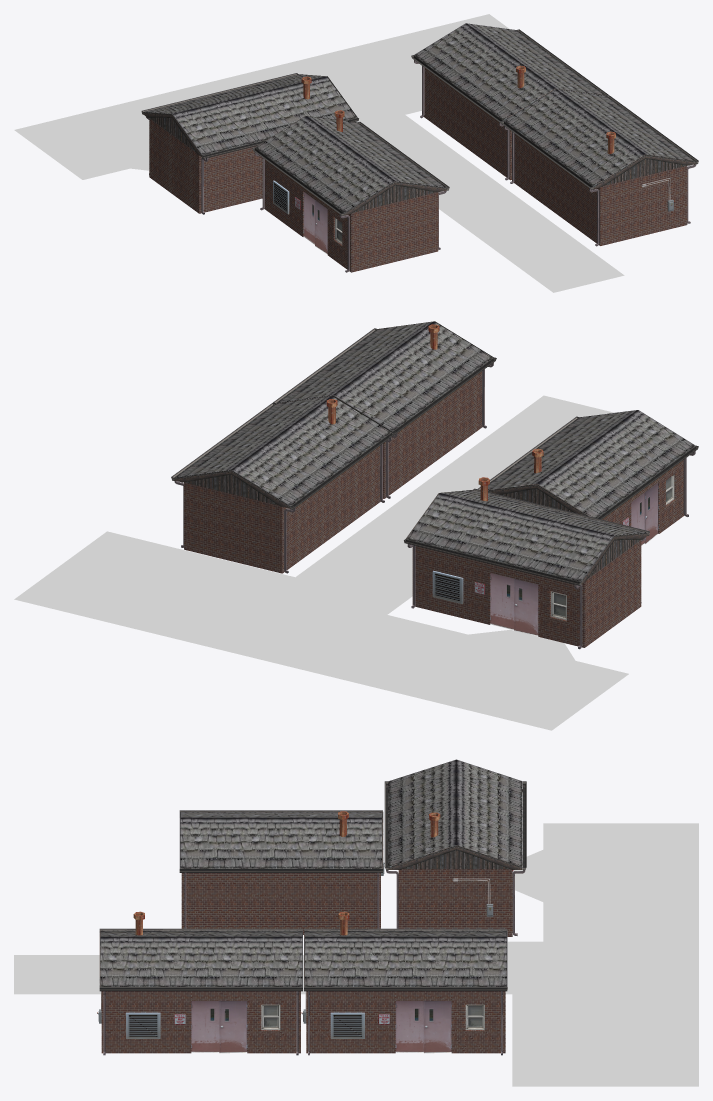
File: town.gltf
3 renders of one model, top to bottom at view 1: azimuth 30°, elevation 25°; view 2: azimuth 150°, elevation 25°; view 3: azimuth 270°, elevation 25°, orthographic. The views are drawn at different scales.
Parts seen in each view (by area): view 1: walkable, building_01_roof.001, building_01_roof.003, building_01.003, building_01_roof, building_01_roof.002, building_01.001, building_01, building_01.002, Door_Shed_A.002, building_01_guttertop.006, building_01_guttertop.003 (+1 smaller); view 2: walkable, building_01_roof.002, building_01_roof, building_01_roof.001, building_01.002, building_01_roof.003, building_01, building_01.003, Door_Shed_A.001, building_01.001, Door_Shed_A.002, building_01_guttertop (+1 smaller); view 3: walkable, building_01_roof, building_01_roof.001, building_01_roof.002, building_01_roof.003, building_01.001, building_01.003, building_01.002, building_01, Door_Shed_A.004, Door_Shed_A.003, building_01_guttertop.002 (+8 smaller).
Part boxes in pixels (x1=…): walkable: x1=14, y1=14, x2=624, y2=292; building_01_roof.001: x1=255, y1=116, x2=446, y2=215; building_01_roof.003: x1=504, y1=89, x2=695, y2=188; building_01.003: x1=514, y1=134, x2=687, y2=245; building_01_roof: x1=143, y1=74, x2=357, y2=157; building_01_roof.002: x1=414, y1=23, x2=605, y2=120; building_01.001: x1=264, y1=160, x2=438, y2=272; building_01: x1=149, y1=118, x2=262, y2=213; building_01.002: x1=424, y1=68, x2=511, y2=180; Door_Shed_A.002: x1=303, y1=192, x2=327, y2=254; building_01_guttertop.006: x1=501, y1=121, x2=593, y2=189; building_01_guttertop.003: x1=252, y1=147, x2=344, y2=216; walkable: x1=14, y1=395, x2=628, y2=730; building_01_roof.002: x1=174, y1=396, x2=391, y2=508; building_01_roof: x1=406, y1=490, x2=648, y2=583; building_01_roof.001: x1=488, y1=410, x2=695, y2=518; building_01.002: x1=184, y1=446, x2=380, y2=573; building_01_roof.003: x1=276, y1=321, x2=493, y2=431; building_01: x1=412, y1=540, x2=641, y2=647; building_01.003: x1=383, y1=371, x2=482, y2=498; Door_Shed_A.001: x1=490, y1=573, x2=538, y2=635; building_01.001: x1=496, y1=460, x2=684, y2=533; Door_Shed_A.002: x1=631, y1=483, x2=658, y2=545; building_01_guttertop: x1=404, y1=539, x2=581, y2=585; walkable: x1=14, y1=823, x2=698, y2=1086; building_01_roof: x1=388, y1=759, x2=522, y2=869; building_01_roof.001: x1=179, y1=811, x2=383, y2=870; building_01_roof.002: x1=304, y1=930, x2=507, y2=989; building_01_roof.003: x1=99, y1=930, x2=302, y2=986; building_01.001: x1=181, y1=873, x2=380, y2=934; building_01.003: x1=101, y1=991, x2=300, y2=1053; building_01.002: x1=306, y1=991, x2=505, y2=1053; building_01: x1=398, y1=869, x2=512, y2=936; Door_Shed_A.004: x1=191, y1=1000, x2=247, y2=1053; Door_Shed_A.003: x1=395, y1=1000, x2=451, y2=1053; building_01_guttertop.002: x1=179, y1=868, x2=382, y2=872.
Size of what is drawn, in the model's own units: 20 by 3.86 by 22.
Materials: 60 (60 with a texture image).
